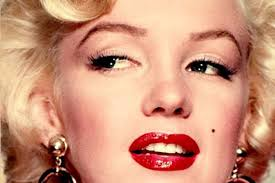mole: (206, 125, 219, 136)
